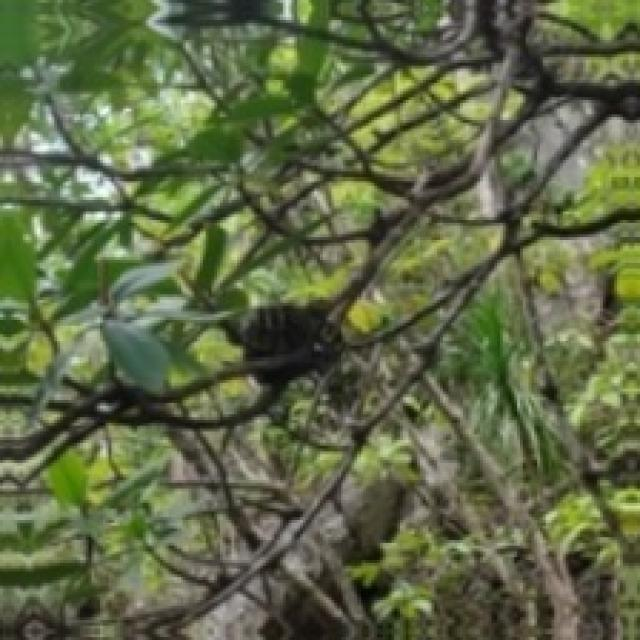mangrove cat snake: (229, 300, 337, 383)
